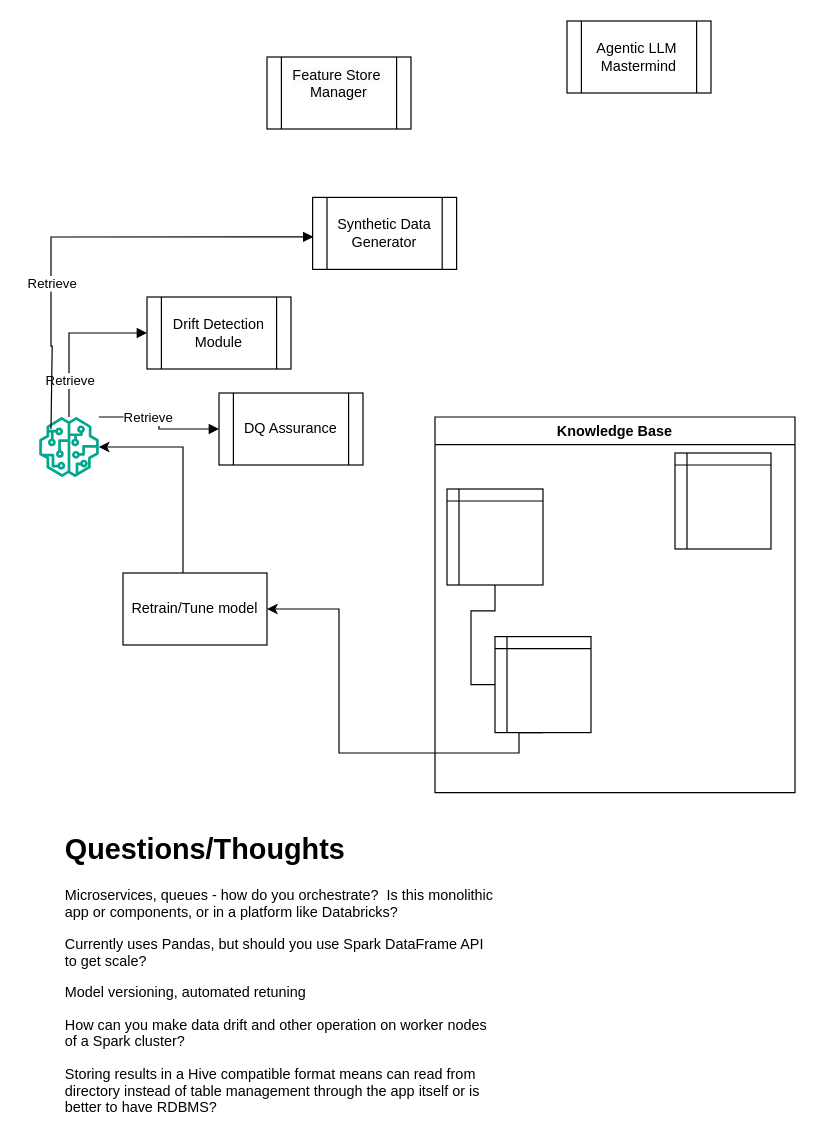
Some shapes in this 816 by 1138 pixel diagram are drawn without their labels. The centre of each missing label's shape, as x and y in pixels:
"Drift Rules Feedback" goes at point (542, 684).
"Drift Rules History" goes at point (494, 536).
"Model Registry" goes at point (68, 446).
"Validation History" goes at point (722, 500).
